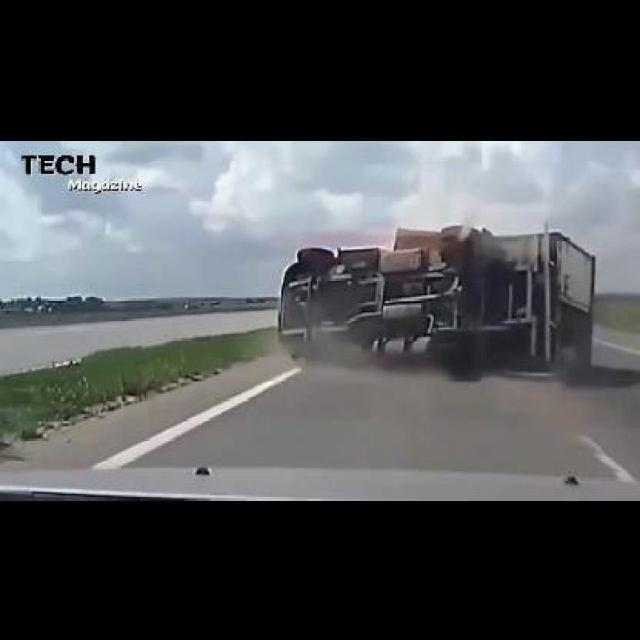accident: (279, 228, 598, 378)
